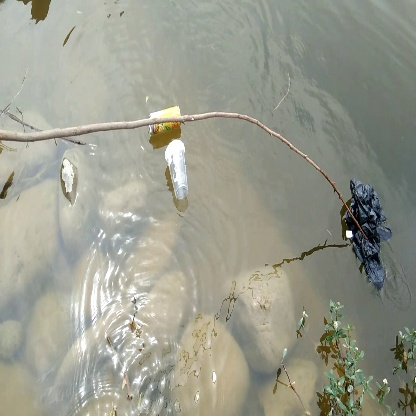bottle: (161, 137, 191, 203)
plastic-bag: (341, 175, 398, 297)
